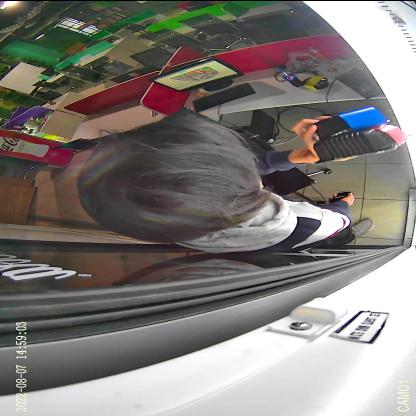blue: (310, 104, 392, 139)
red: (312, 124, 408, 164)
